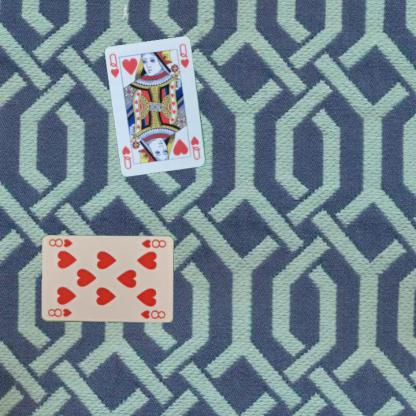8h: (45, 306, 73, 318), (139, 237, 167, 249)
Qh: (188, 134, 202, 161), (107, 51, 121, 78)
